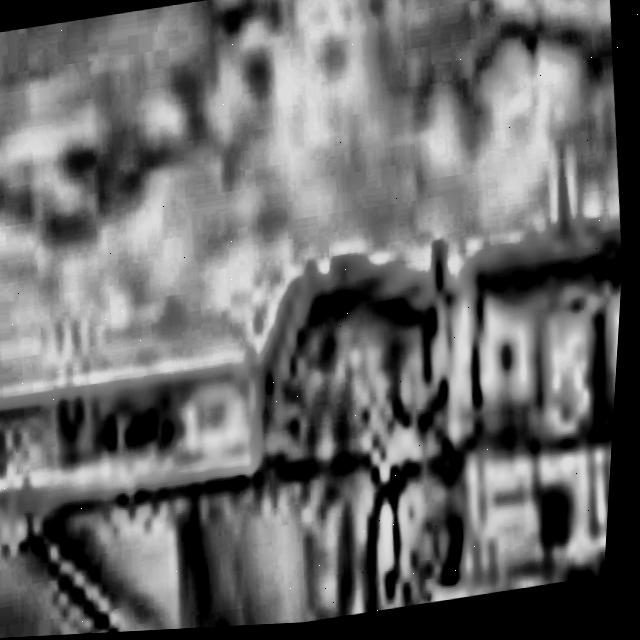dump_truck: (0, 184, 630, 640)
